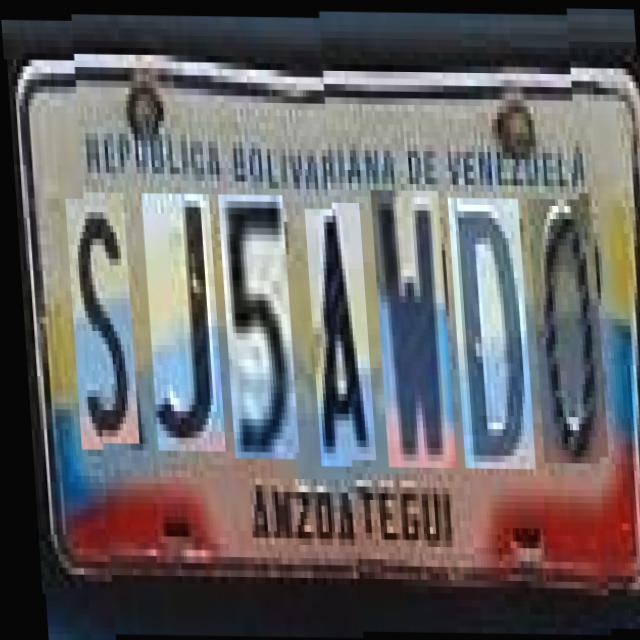5: (215, 187, 293, 452)
A: (302, 201, 369, 459)
D: (444, 197, 530, 468)
J: (138, 186, 220, 444)
O: (524, 198, 602, 462)
S: (61, 186, 132, 437)
W: (368, 189, 450, 467)
